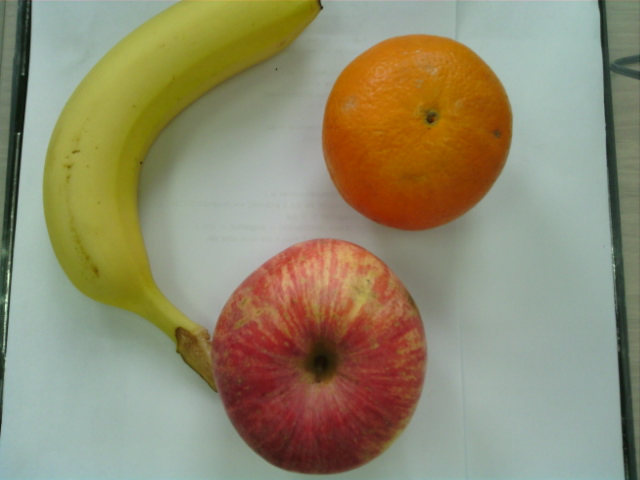normal_apple: (216, 239, 427, 471)
normal_banana: (49, 1, 322, 325)
normal_orange: (323, 34, 516, 237)
